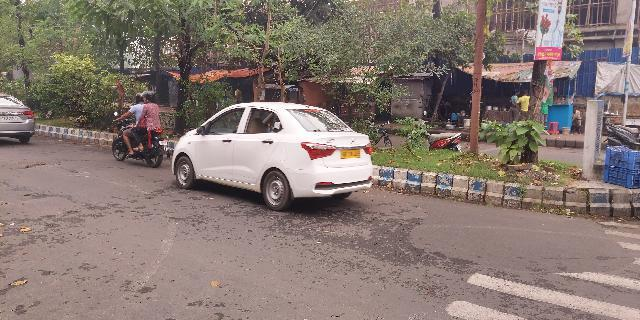Car: (172, 104, 376, 209)
Motorbike: (111, 96, 169, 170)
